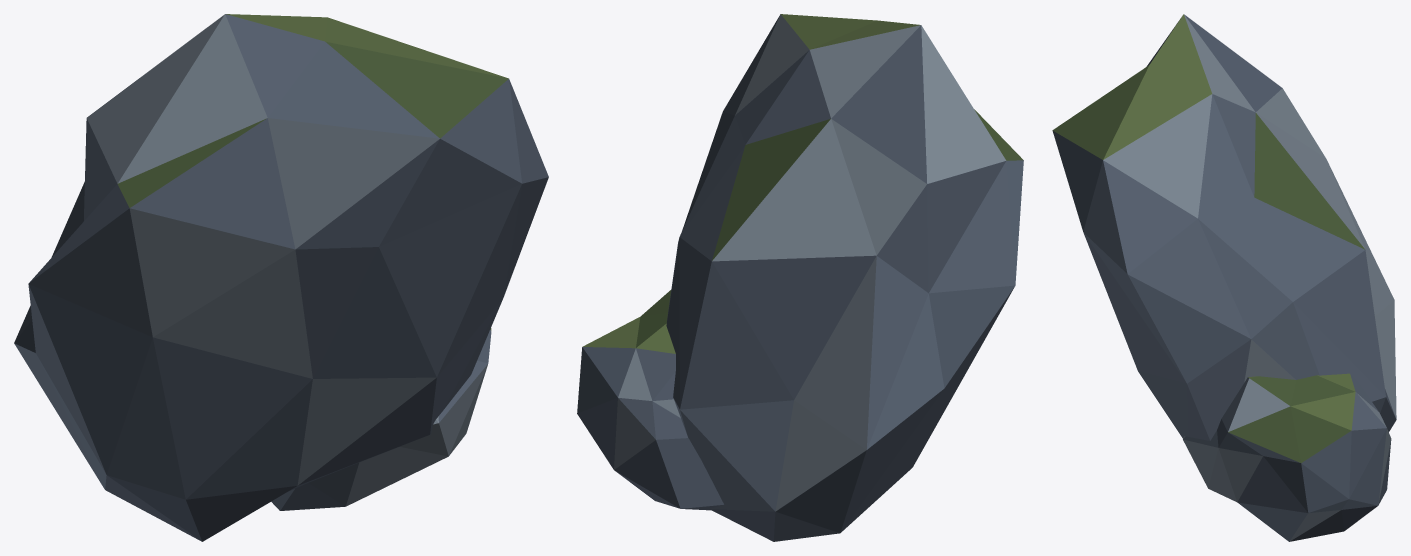
The model's file is rocks_b.glb.
The picture shows the model from 3 angles, left to right: view 1: azimuth 30°, elevation 25°; view 2: azimuth 150°, elevation 25°; view 3: azimuth 270°, elevation 25°; orthographic projection. The views are drawn at different scales.
Parts seen in each view (by area): view 1: rocks_b; view 2: rocks_b; view 3: rocks_b.
Part boxes in pixels (box(x1,y1,x2,y2)): rocks_b: box(14, 14, 548, 541); rocks_b: box(577, 14, 1023, 541); rocks_b: box(1052, 14, 1396, 541).
Bounding box in the file's own units: 1.78 × 2.01 × 1.41.
Materials: 1 (1 with a texture image).
